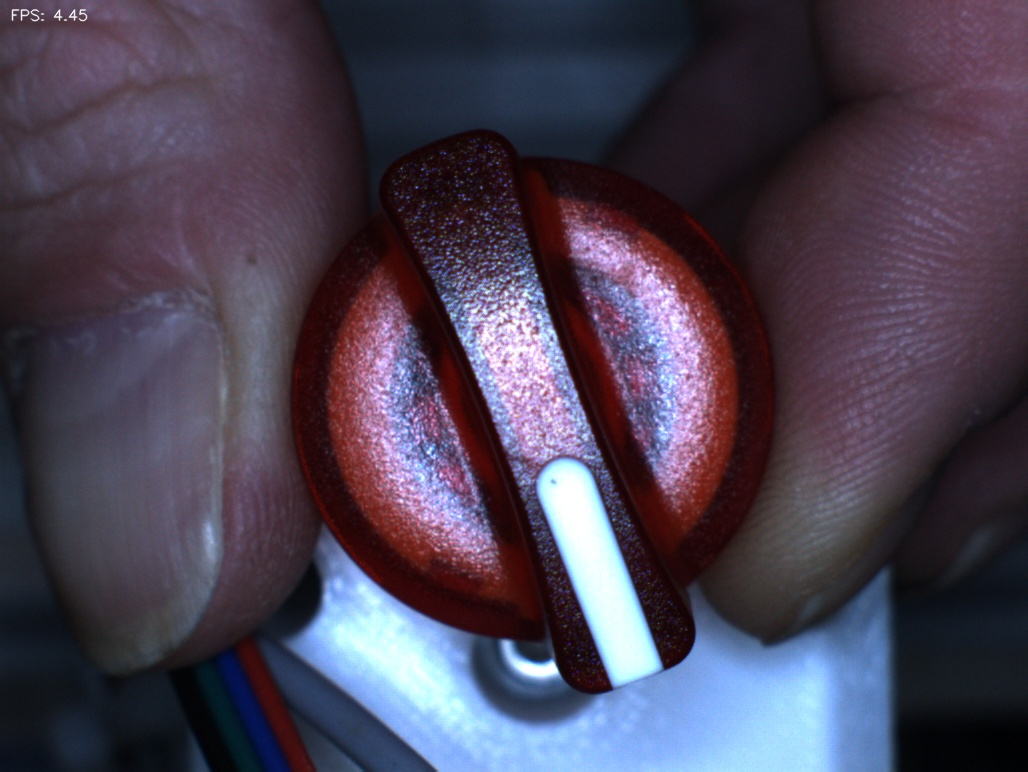PointNoir: (522, 448, 582, 507)
